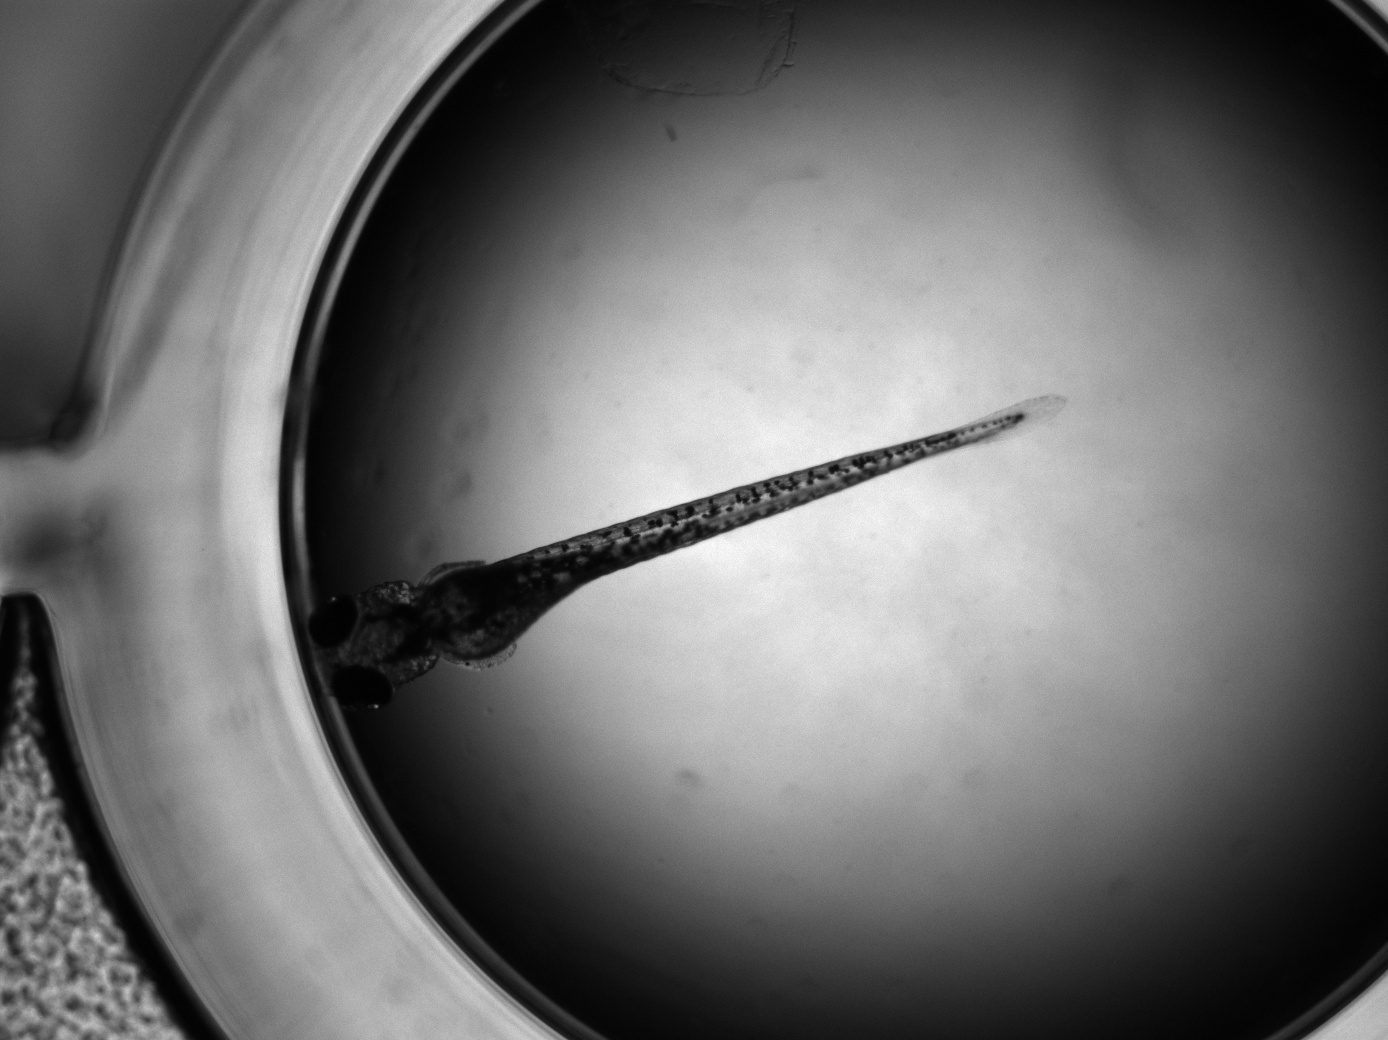embryo: (308, 395, 1063, 707)
eye: (330, 666, 394, 707), (309, 593, 357, 647)
yolksac: (422, 567, 538, 659)
